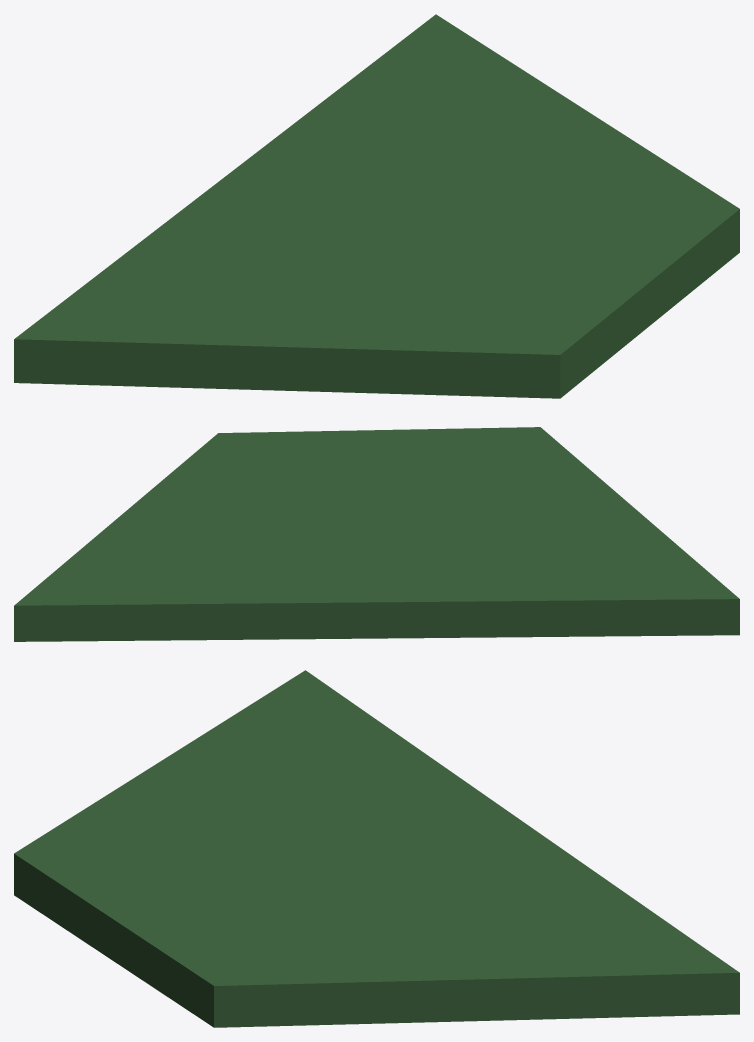
The model's file is x_proval_00_91_1_rmstrd.fbx.
The picture shows the model from 3 angles, top to bottom: view 1: azimuth 30°, elevation 25°; view 2: azimuth 150°, elevation 25°; view 3: azimuth 270°, elevation 25°; orthographic projection. The views are drawn at different scales.
Visible parts, largest first — view 1: x_proval_00_91_1_rmstrd1; view 2: x_proval_00_91_1_rmstrd1; view 3: x_proval_00_91_1_rmstrd1.
Boxes of the visible parts, x1,y1,x2,y2 form: x_proval_00_91_1_rmstrd1: [14, 14, 739, 398]; x_proval_00_91_1_rmstrd1: [14, 427, 739, 641]; x_proval_00_91_1_rmstrd1: [14, 670, 739, 1027].
Bounding box in the file's own units: 3.25 × 0.2 × 3.15.
